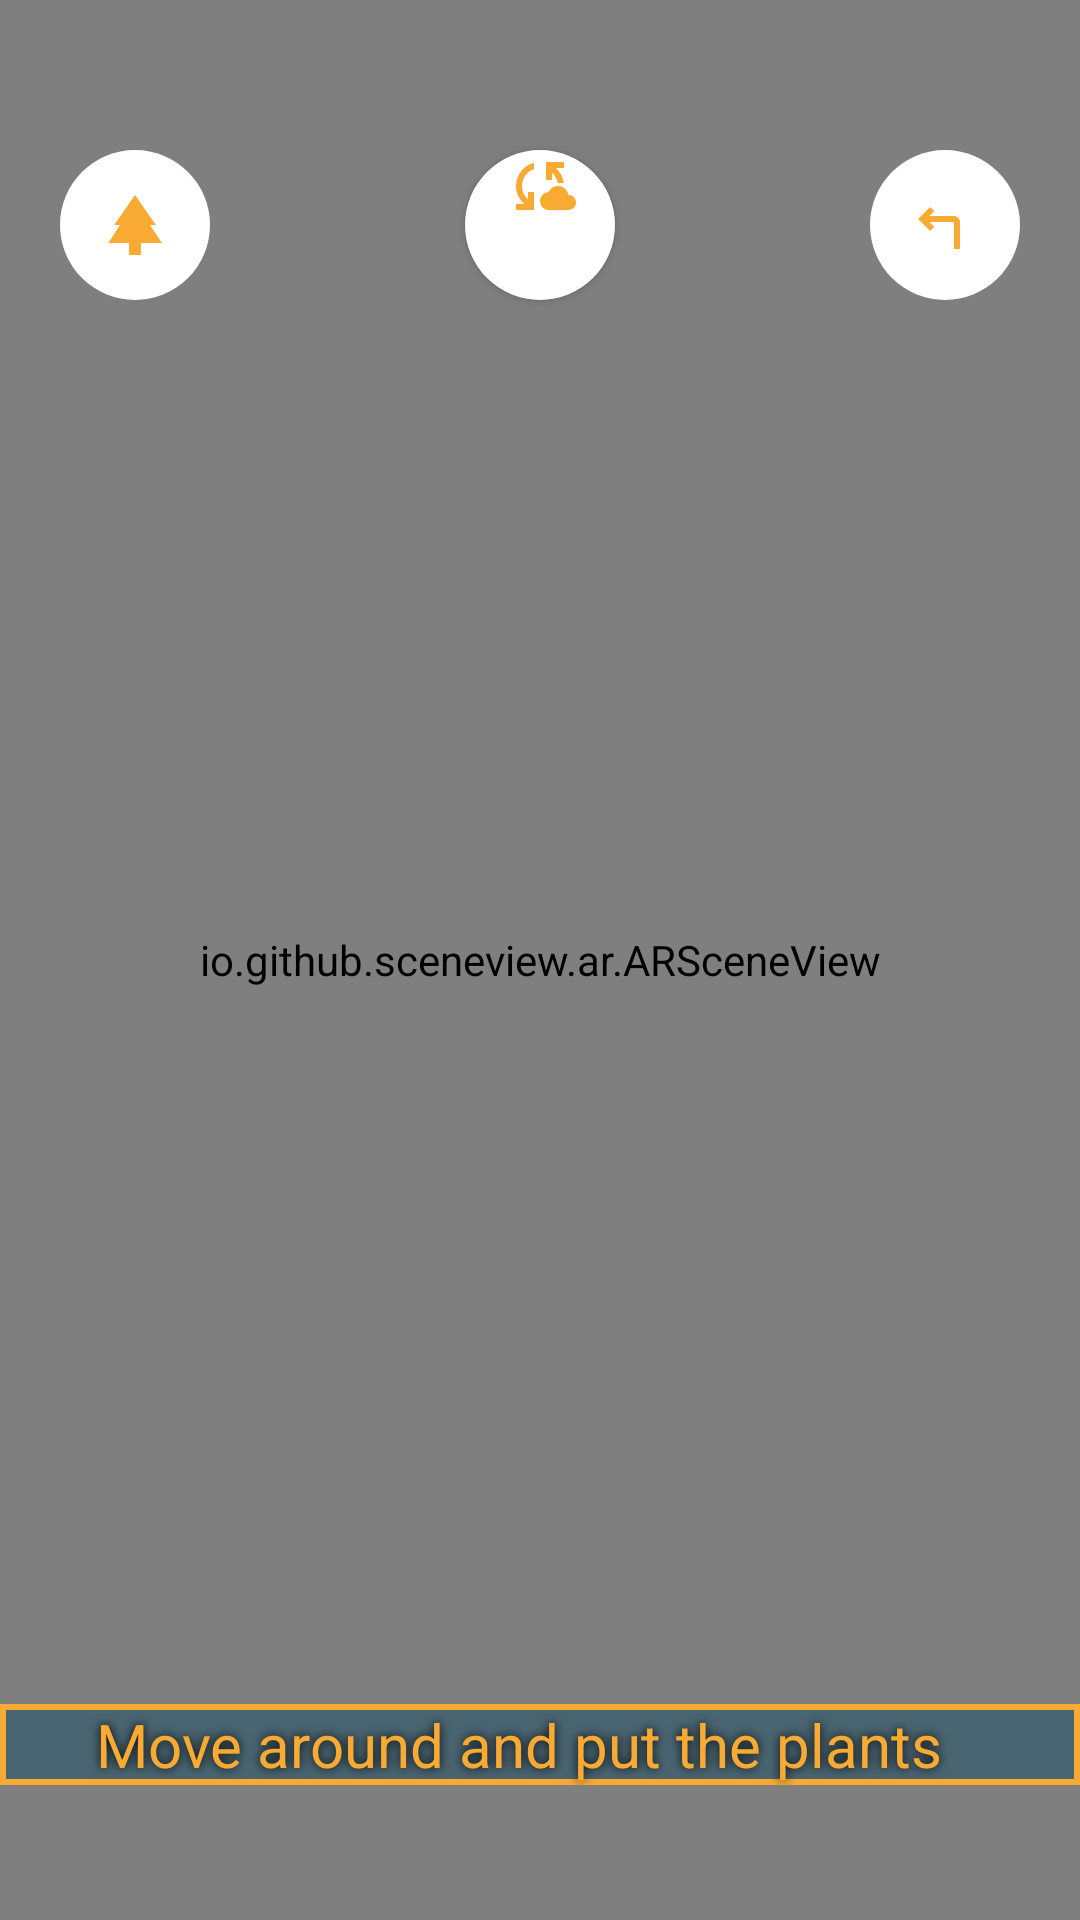

Screen size 1080w x 1920h. Icon name, then its center in pixels as (x=x, y=y):
park: (x=135, y=225)
turn left: (x=945, y=225)
